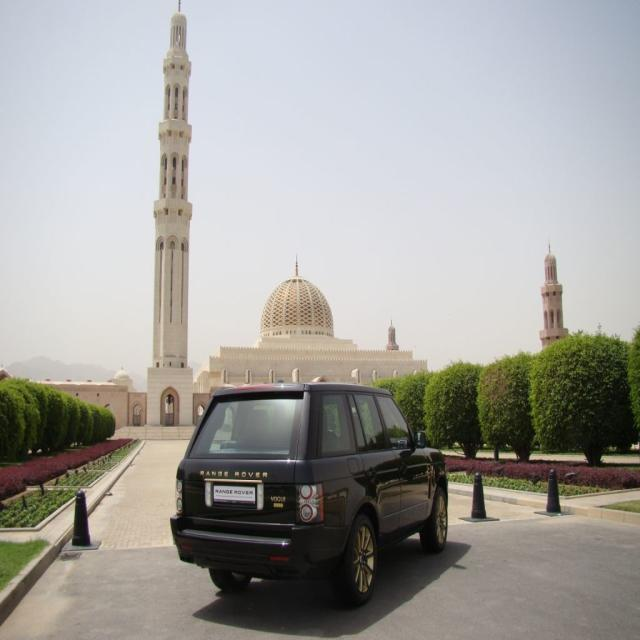car: (168, 381, 446, 607)
